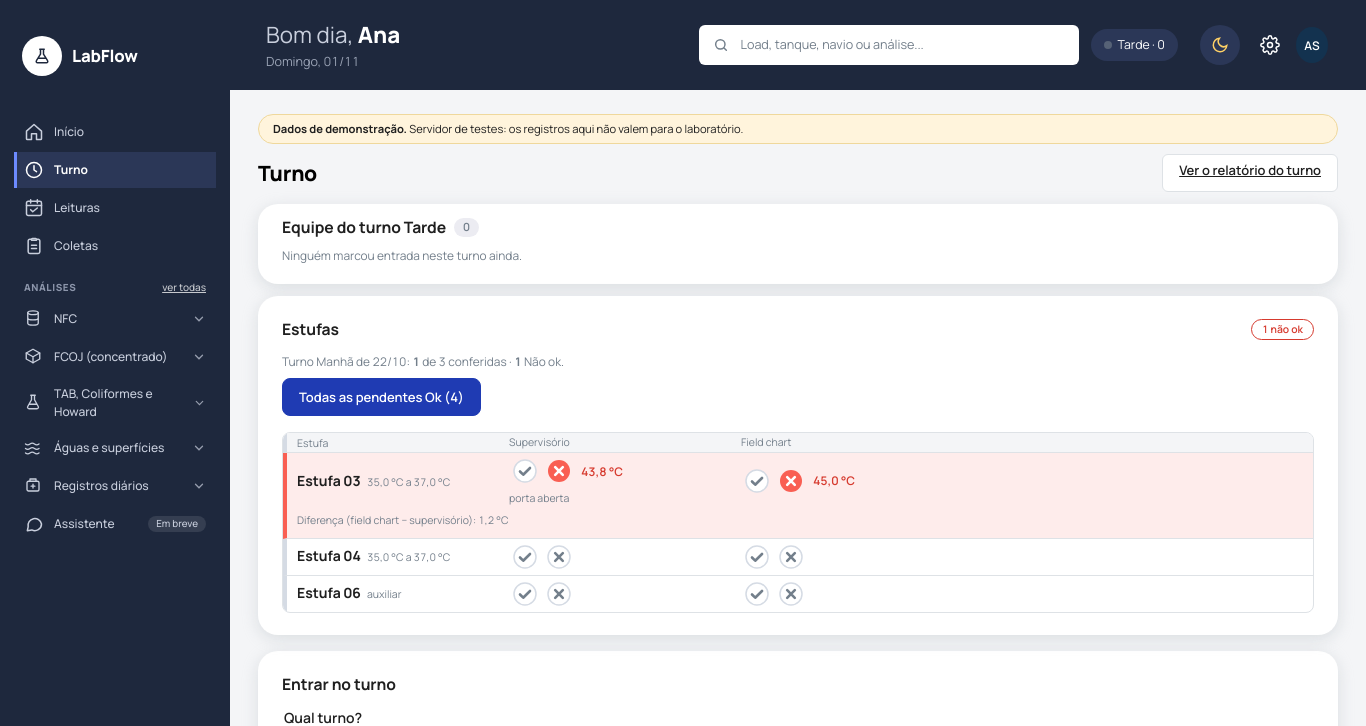
Test: Estufas (APP-027; no Turno desde 26/10) › mostra o erro da API
Click the 3rd button named "Ok".
click(525, 557)  # box [509,541,541,573]
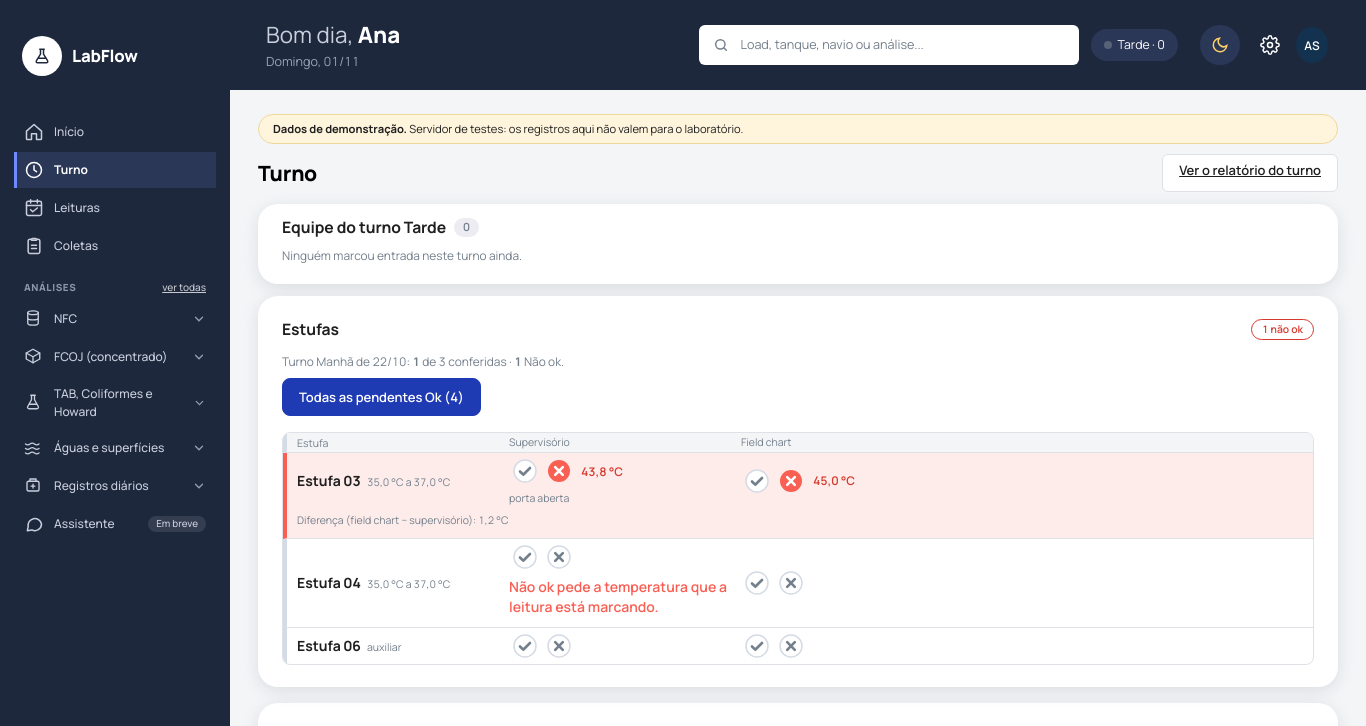
Check: the message shows "Não ok pede a temperatura", box [509,577,727,616]
